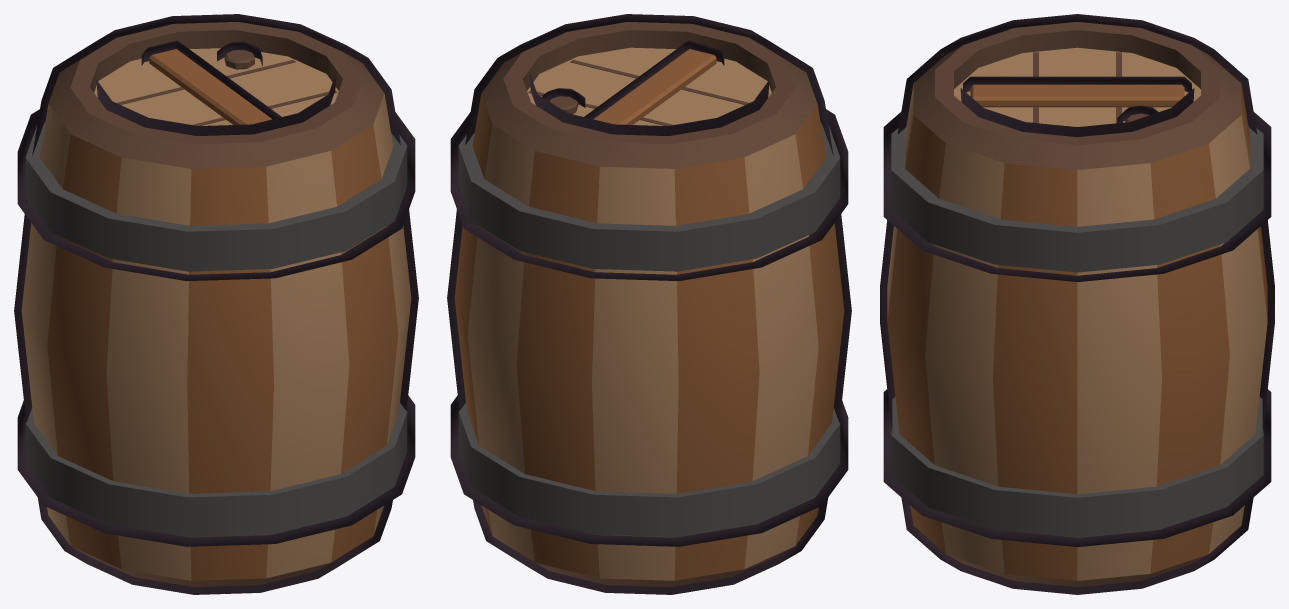
File: SM_Island_Barrel.fbx
3 renders of one model, left to right at view 1: azimuth 30°, elevation 25°; view 2: azimuth 150°, elevation 25°; view 3: azimuth 270°, elevation 25°, orthographic.
Parts seen in each view (by area): view 1: SM_Island_Barrel, SM_Island_Barrel_Outline; view 2: SM_Island_Barrel, SM_Island_Barrel_Outline; view 3: SM_Island_Barrel, SM_Island_Barrel_Outline.
Part boxes in pixels (left/top/right/bottom): SM_Island_Barrel: left=21, top=22, right=411, bottom=586; SM_Island_Barrel_Outline: left=14, top=14, right=418, bottom=594; SM_Island_Barrel: left=454, top=22, right=844, bottom=586; SM_Island_Barrel_Outline: left=447, top=14, right=851, bottom=594; SM_Island_Barrel: left=887, top=22, right=1267, bottom=586; SM_Island_Barrel_Outline: left=880, top=14, right=1274, bottom=594.
Size of the model in its own units: 0.8309 by 1.03 by 0.8101.
Materials: 2 (1 with a texture image).
